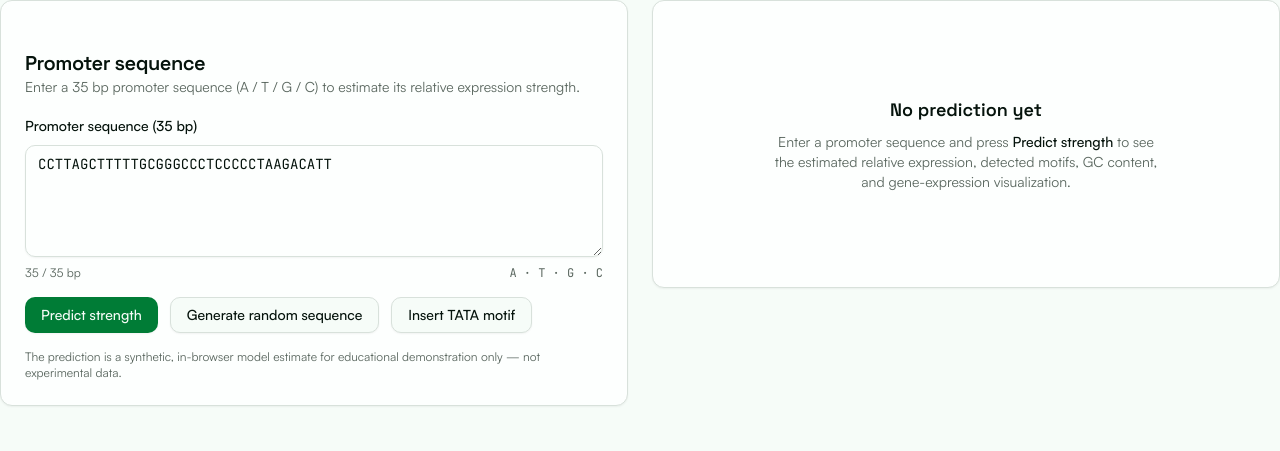
Scenario: PredictPage › shows an error for an invalid sequence
Replace the text in the text box with test id "sequence.input" with "TTGACGGCTAGCTCAGTCCTAGGTACAGTGCTAG" at (314, 201), box 25,145 -> 603,257
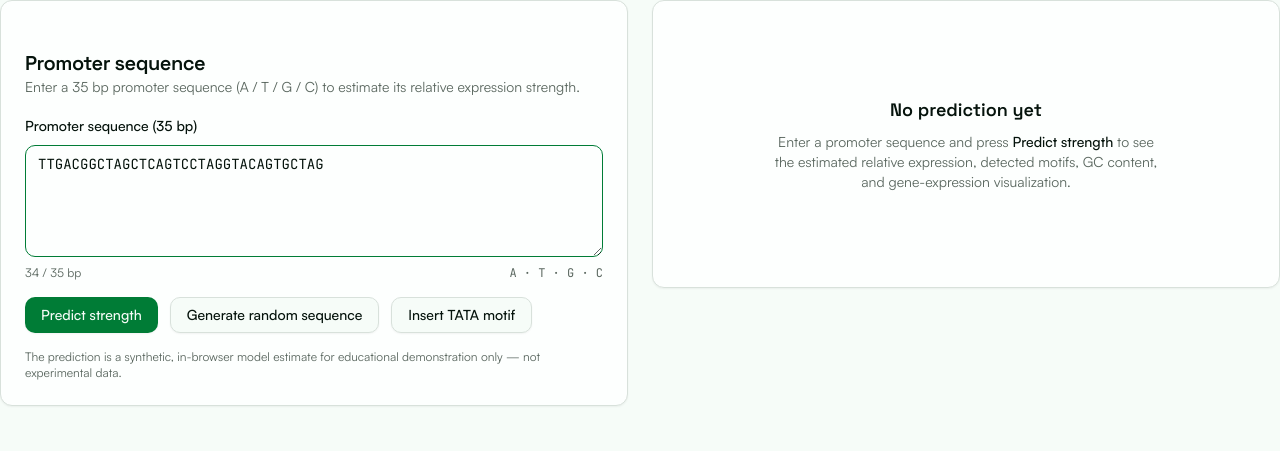
Click the button with test id "predict_button" at (91, 315), box 25,297 -> 158,333
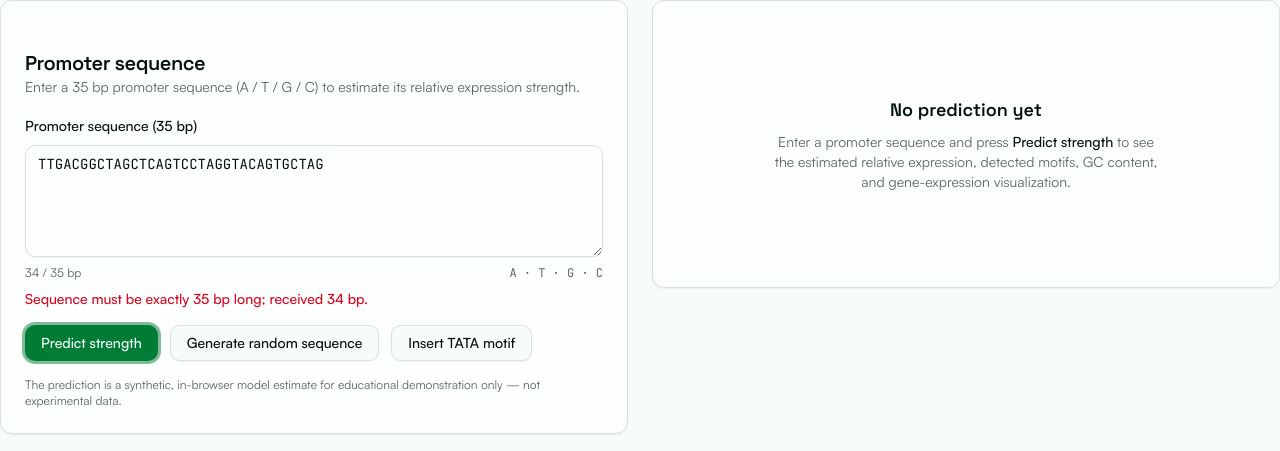
Expected: the text "Sequence must be exactly 35 bp long; received 34 bp." is shown, 25,290 -> 368,307
